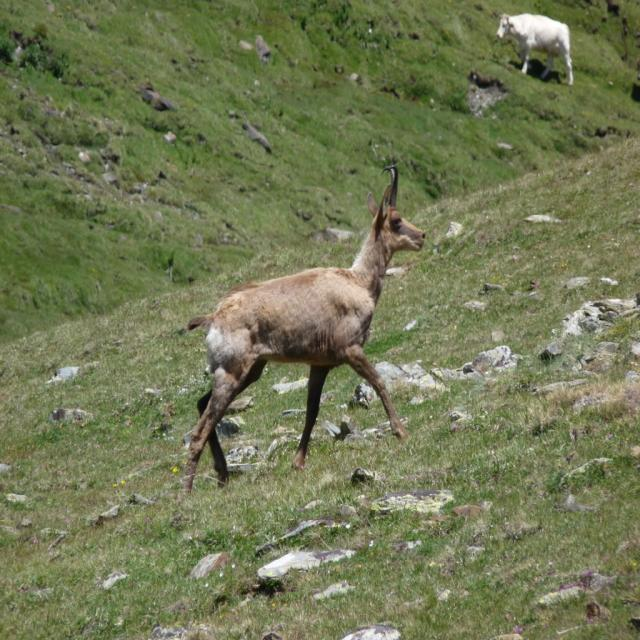Goat: (177, 165, 426, 506)
